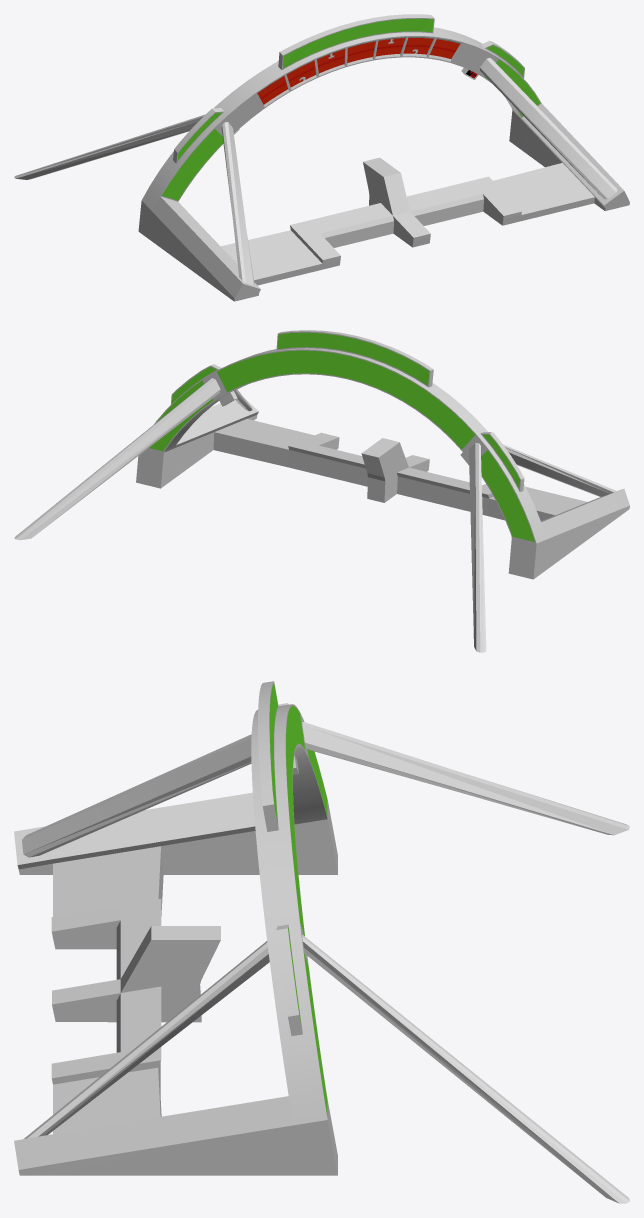
The model's file is startpoint.FBX.
3 renders of one model, top to bottom at view 1: azimuth 30°, elevation 25°; view 2: azimuth 150°, elevation 25°; view 3: azimuth 270°, elevation 25°, orthographic. The views are drawn at different scales.
Visible parts, largest first — view 1: StartMark, Counter; view 2: StartMark; view 3: StartMark.
Boxes of the visible parts, bbox=[...] form: StartMark: bbox=[14, 14, 629, 301]; Counter: bbox=[257, 38, 459, 104]; StartMark: bbox=[14, 330, 629, 652]; StartMark: bbox=[14, 681, 629, 1203].
Size of the model in its own units: 12882 by 4657 by 8829.
